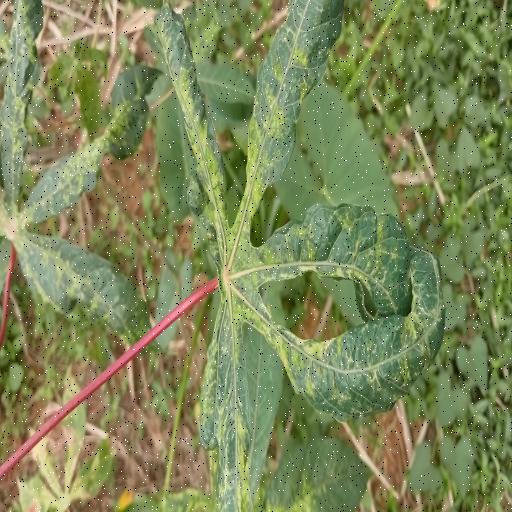Cassava_Mosaic: (154, 0, 447, 512), (0, 0, 161, 359)
